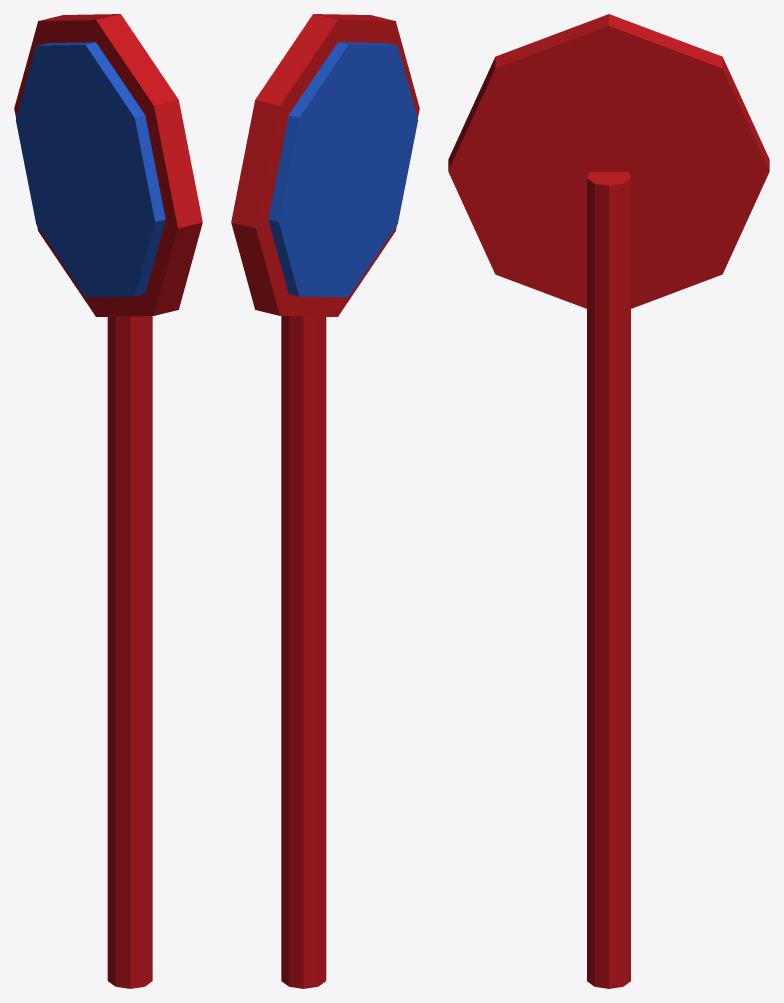
The model's file is transport-TrafficSign1.glb.
3 views of the same model, side by side, from view 1: azimuth 30°, elevation 25°; view 2: azimuth 150°, elevation 25°; view 3: azimuth 270°, elevation 25° (orthographic).
Visible parts, largest first — view 1: Border, Sign; view 2: Border, Sign; view 3: Border.
Boxes of the visible parts, x1=… form: Border: x1=14, y1=14, x2=202, y2=988; Sign: x1=16, y1=42, x2=165, y2=297; Border: x1=231, y1=14, x2=419, y2=988; Sign: x1=268, y1=42, x2=417, y2=297; Border: x1=448, y1=14, x2=769, y2=988.
Bounding box in the file's own units: 0.1059 × 1.52 × 0.4651.
